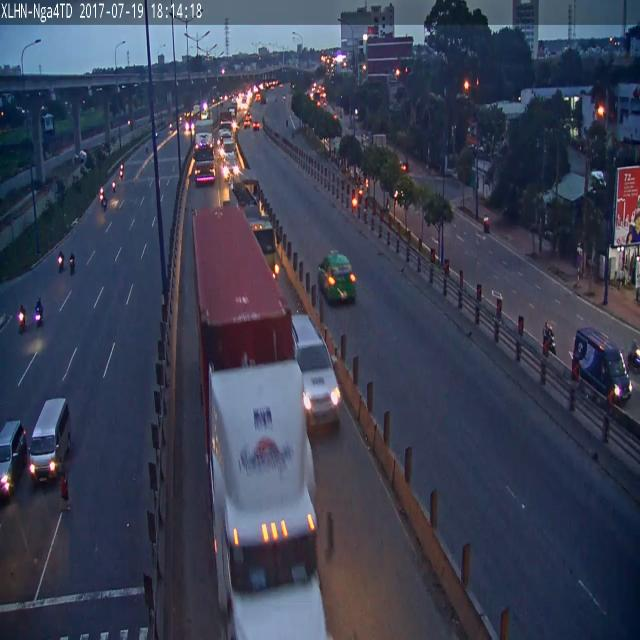car: (34, 299, 43, 326), (18, 306, 26, 332), (58, 251, 64, 272), (70, 252, 74, 275)
traffic-light: (0, 421, 28, 498), (318, 251, 356, 303), (248, 216, 276, 268)
truck: (195, 207, 335, 640), (292, 315, 340, 428), (571, 327, 632, 406), (30, 398, 70, 484)
